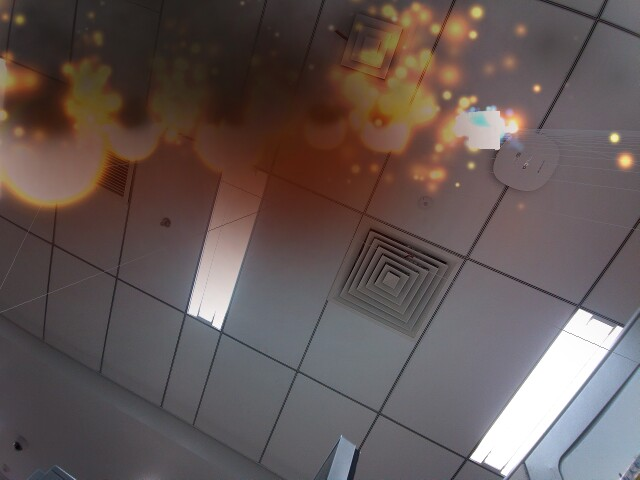fire: (4, 94, 108, 207), (193, 101, 269, 174), (107, 105, 159, 162), (302, 103, 349, 150), (362, 107, 410, 153)
